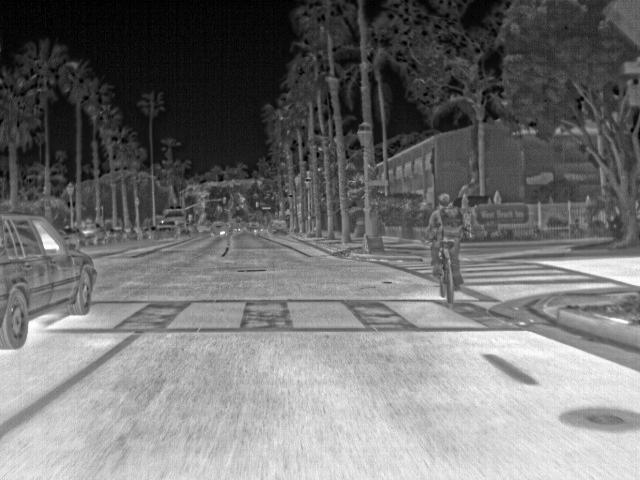car: (0, 213, 98, 346), (80, 222, 108, 245), (154, 220, 178, 238), (268, 220, 289, 238)
person: (426, 194, 466, 290)
